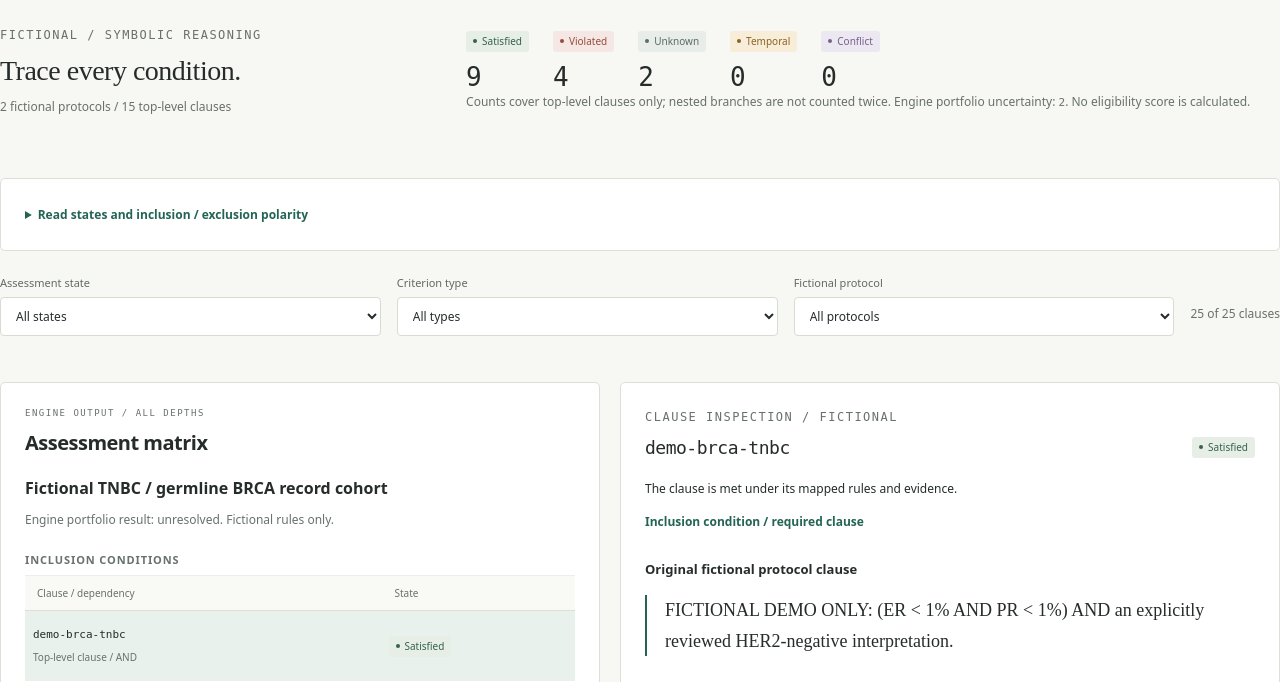
Test: preserves the backend satisfied state and filters without recomputing it
The image size is (1280, 682).
Select "satisfied" in the dropdown labelled "Assessment state" at (190, 316), box x1=0 y1=297 x2=381 y2=336
(page scrolled)
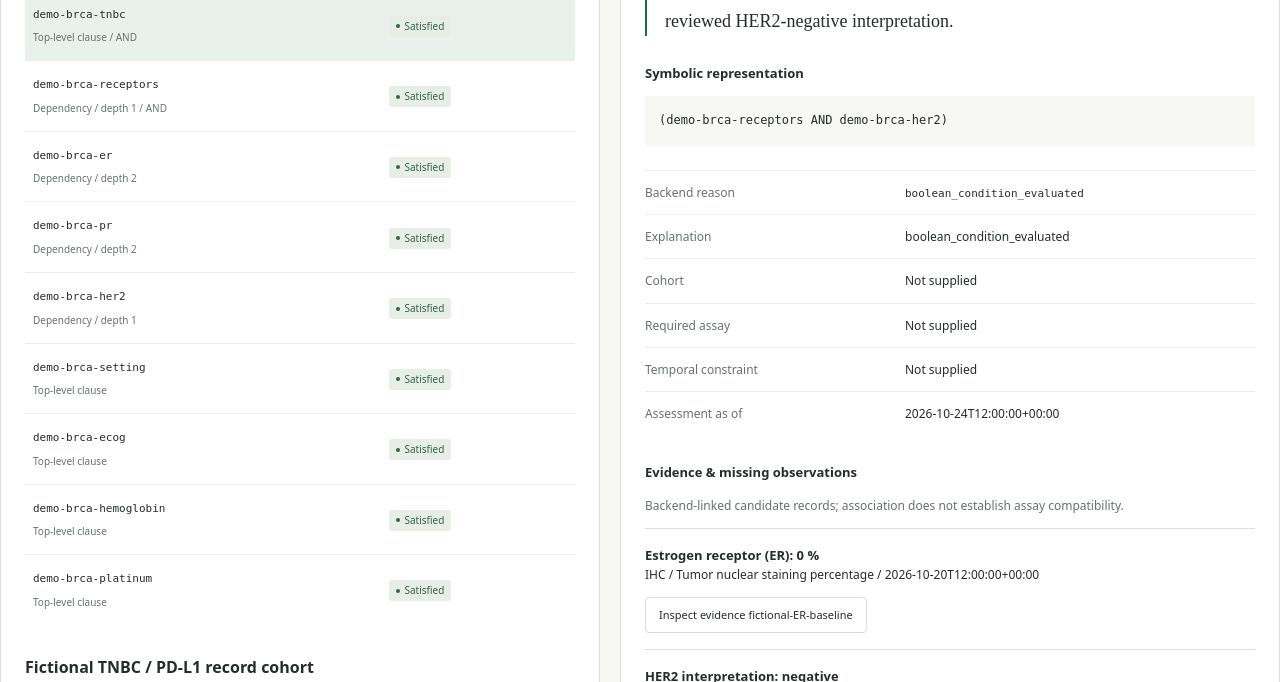
Click the button with aria-label "Inspect demo-brca-ecog" at (79, 438), box x1=31 y1=423 x2=376 y2=475
(page scrolled)
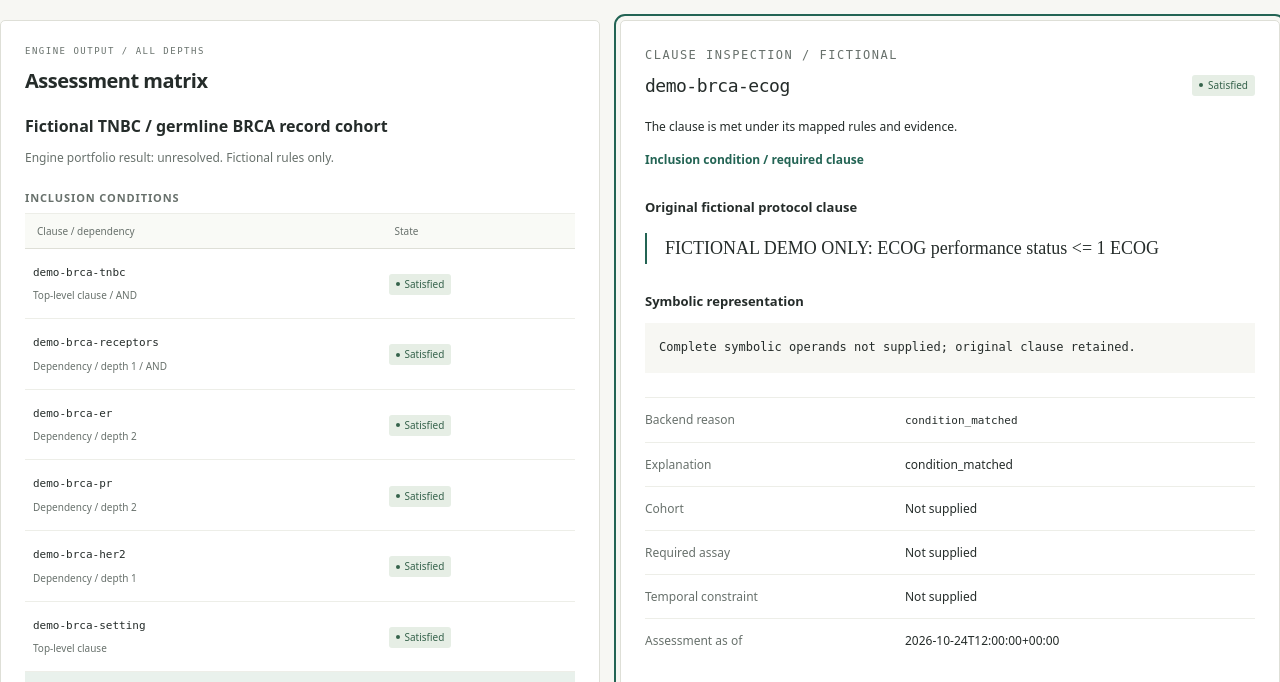
expect the text "satisfied" is shown: met, box x1=1192 y1=75 x2=1255 y2=96
expect the text "condition_matched" in the row of "Backend reason" is shown: met, box x1=905 y1=414 x2=1018 y2=427
